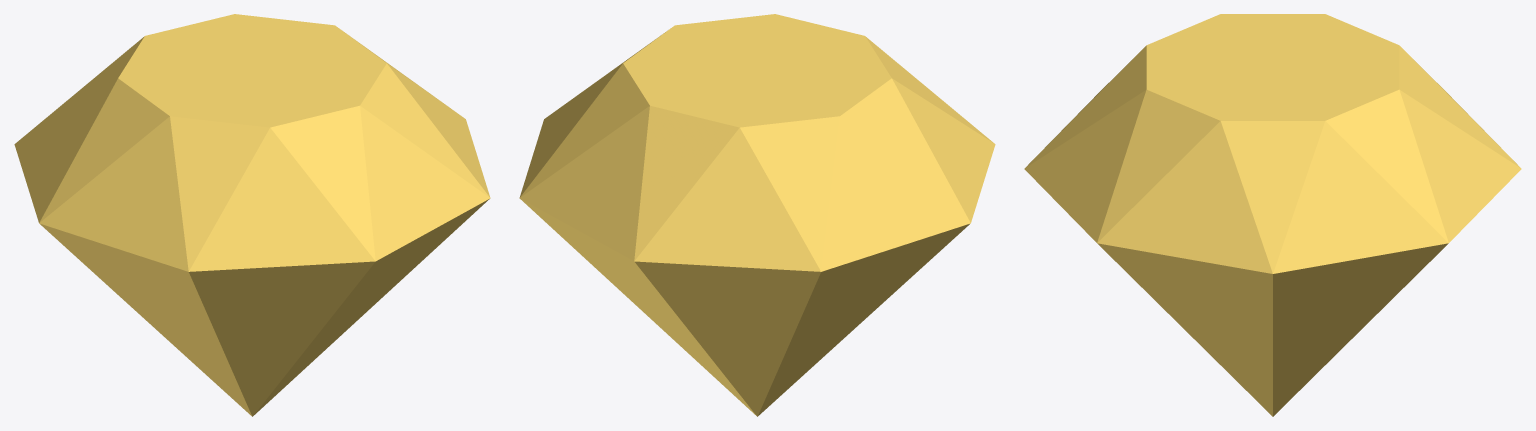
Rendered from gem.glb.
3 renders of one model, left to right at view 1: azimuth 30°, elevation 25°; view 2: azimuth 150°, elevation 25°; view 3: azimuth 270°, elevation 25°, orthographic.
Visible parts, largest first — view 1: gem; view 2: gem; view 3: gem.
Boxes of the visible parts, box(x1,y1,x2,y2) form: gem: box(14, 14, 490, 416); gem: box(519, 14, 995, 416); gem: box(1024, 14, 1521, 416).
Size of the model in its own units: 2 by 1.55 by 2.
